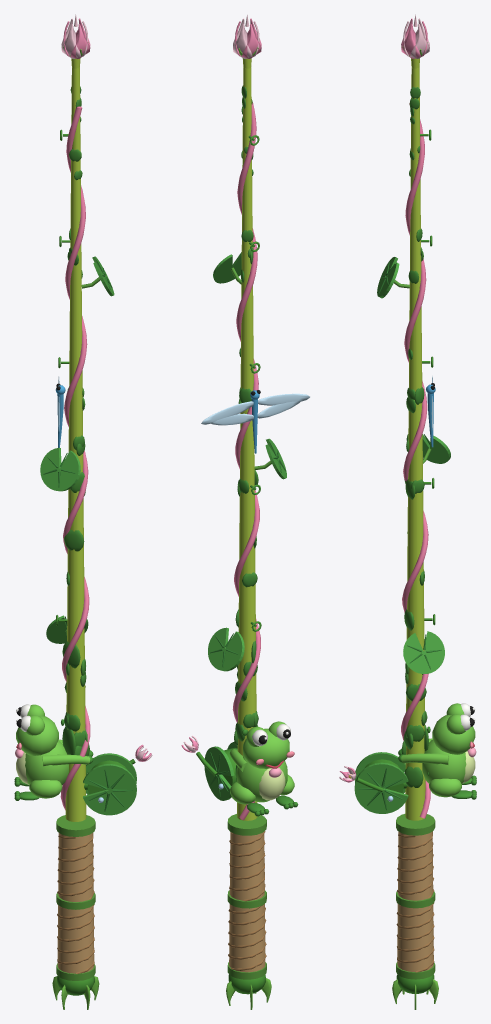
Rendered from FrogRod_before_noDragonfly_20261119.glb.
3 views of the same model, side by side, from view 1: azimuth 90°, elevation 25°; view 2: azimuth 210°, elevation 25°; view 3: azimuth 270°, elevation 25° (orthographic).
Visible parts, largest first — view 1: FrogRod__FrogSkin, FrogRod__LilyPad, FrogRod__Grip, FrogRod__Frog, FrogRod__Ribbon, FrogRod__FrogSpot, FrogRod__Cord, FrogRod__GripDark, FrogRod__ReedDark, FrogRod__LotusLight, FrogRod__LilyDark, FrogRod__Lotus (+2 smaller); view 2: FrogRod__FrogSkin, FrogRod__Grip, FrogRod__LilyPad, FrogRod__Frog, FrogRod__Ribbon, FrogRod__FrogSpot, FrogRod__Wing, FrogRod__Cord, FrogRod__GripDark, FrogRod__ReedDark, FrogRod__FrogBelly, FrogRod__LotusLight (+6 smaller); view 3: FrogRod__FrogSkin, FrogRod__LilyPad, FrogRod__Grip, FrogRod__Frog, FrogRod__Ribbon, FrogRod__FrogSpot, FrogRod__Cord, FrogRod__GripDark, FrogRod__ReedDark, FrogRod__LotusLight, FrogRod__LilyDark, FrogRod__Lotus (+2 smaller).
Part boxes in pixels (bbox=[...]): FrogRod__FrogSkin: bbox=[65, 58, 86, 821]; FrogRod__LilyPad: bbox=[40, 256, 136, 815]; FrogRod__Grip: bbox=[57, 833, 94, 973]; FrogRod__Frog: bbox=[16, 704, 90, 798]; FrogRod__Ribbon: bbox=[60, 106, 90, 810]; FrogRod__FrogSpot: bbox=[62, 86, 89, 775]; FrogRod__Cord: bbox=[56, 277, 100, 980]; FrogRod__GripDark: bbox=[57, 833, 94, 973]; FrogRod__ReedDark: bbox=[56, 129, 135, 995]; FrogRod__LotusLight: bbox=[61, 14, 152, 761]; FrogRod__LilyDark: bbox=[43, 259, 132, 811]; FrogRod__Lotus: bbox=[63, 18, 151, 761]; FrogRod__FrogSkin: bbox=[237, 58, 257, 820]; FrogRod__Grip: bbox=[229, 832, 265, 972]; FrogRod__LilyPad: bbox=[204, 252, 286, 800]; FrogRod__Frog: bbox=[229, 721, 294, 804]; FrogRod__Ribbon: bbox=[232, 102, 260, 820]; FrogRod__FrogSpot: bbox=[234, 85, 258, 781]; FrogRod__Wing: bbox=[201, 393, 309, 425]; FrogRod__Cord: bbox=[227, 267, 271, 979]; FrogRod__GripDark: bbox=[228, 831, 266, 970]; FrogRod__ReedDark: bbox=[196, 135, 265, 994]; FrogRod__FrogBelly: bbox=[259, 767, 285, 800]; FrogRod__LotusLight: bbox=[183, 15, 259, 752]; FrogRod__FrogSkin: bbox=[405, 58, 425, 820]; FrogRod__LilyPad: bbox=[354, 257, 450, 813]; FrogRod__Grip: bbox=[397, 831, 433, 971]; FrogRod__Frog: bbox=[401, 703, 475, 797]; FrogRod__Ribbon: bbox=[401, 103, 430, 818]; FrogRod__FrogSpot: bbox=[401, 87, 428, 787]; FrogRod__Cord: bbox=[394, 280, 435, 979]; FrogRod__GripDark: bbox=[396, 831, 434, 972]; FrogRod__ReedDark: bbox=[356, 129, 435, 993]; FrogRod__LotusLight: bbox=[339, 14, 429, 782]; FrogRod__LilyDark: bbox=[358, 262, 441, 810]; FrogRod__Lotus: bbox=[339, 18, 427, 782].
Bounding box in the file's own units: 0.7567 × 6.52 × 0.8253.
